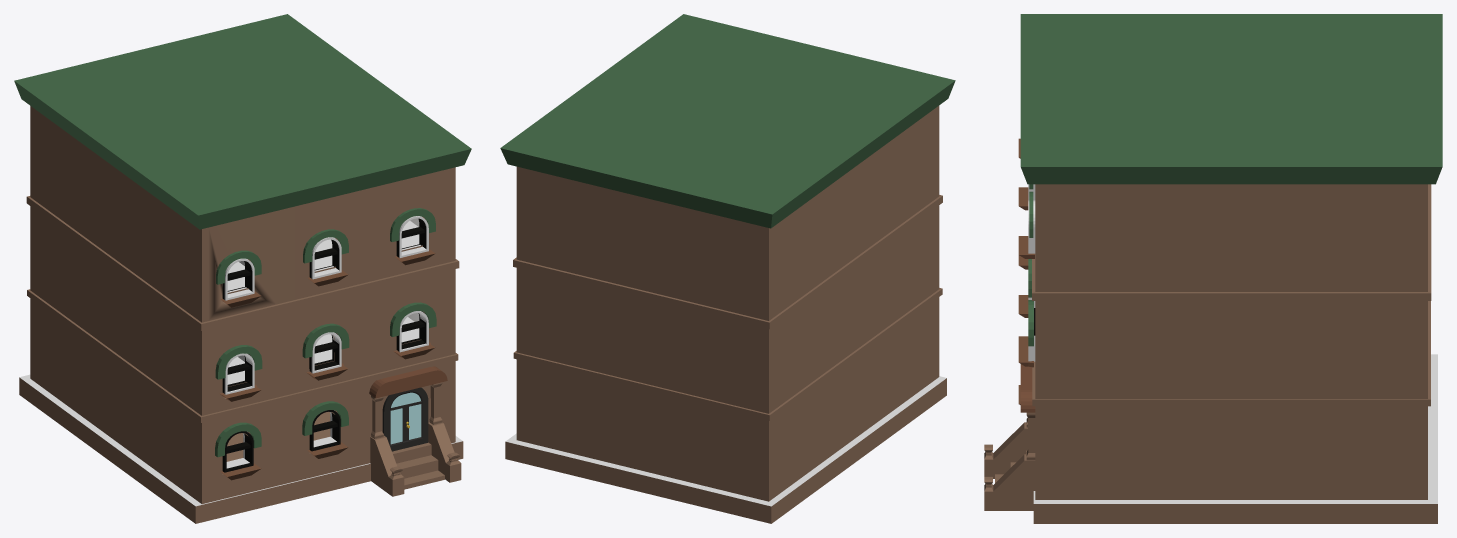
Rendered from apartment4-2.fbx.
The picture shows the model from 3 angles, left to right: view 1: azimuth 30°, elevation 25°; view 2: azimuth 150°, elevation 25°; view 3: azimuth 270°, elevation 25°; orthographic projection. The views are drawn at different scales.
Visible parts, largest first — view 1: buildingshell, Buildingroof, Lobbyfloor, Entrance Stair Handles, Buildingdoor, FirstfloorWindowArches, SecondfloorWindowArches, Entrance Stairs, Firstfloorwindowframes, Cube.004, LobbyfloorwindowArches, Cube.001 (+9 smaller); view 2: buildingshell, Buildingroof, Lobbyfloor; view 3: buildingshell, Buildingroof, Lobbyfloor, Entrance Stair Handles, FirstFloorWindowshelves, Cube.001, SecondFloorWindowshelves.
Part boxes in pixels (x1,y1,x2,y2): buildingshell: (26, 106, 459, 503); Buildingroof: (14, 14, 471, 229); Lobbyfloor: (19, 374, 463, 523); Entrance Stair Handles: (370, 422, 461, 496); Buildingdoor: (382, 387, 428, 451); FirstfloorWindowArches: (215, 302, 436, 379); SecondfloorWindowArches: (216, 208, 435, 284); Entrance Stairs: (392, 442, 444, 489); Firstfloorwindowframes: (222, 311, 425, 393); Cube.004: (224, 216, 428, 300); LobbyfloorwindowArches: (215, 401, 348, 457); Cube.001: (369, 366, 447, 398); buildingshell: (513, 105, 942, 501); Buildingroof: (500, 14, 955, 228); Lobbyfloor: (505, 376, 946, 523); buildingshell: (1032, 184, 1431, 499); Buildingroof: (1020, 14, 1442, 184); Lobbyfloor: (1033, 354, 1437, 523); Entrance Stair Handles: (984, 422, 1035, 510); FirstFloorWindowshelves: (1018, 255, 1033, 367); Cube.001: (1020, 364, 1035, 412); SecondFloorWindowshelves: (1018, 138, 1034, 258).
Size of the model in its own units: 3134 by 3431 by 3970.
